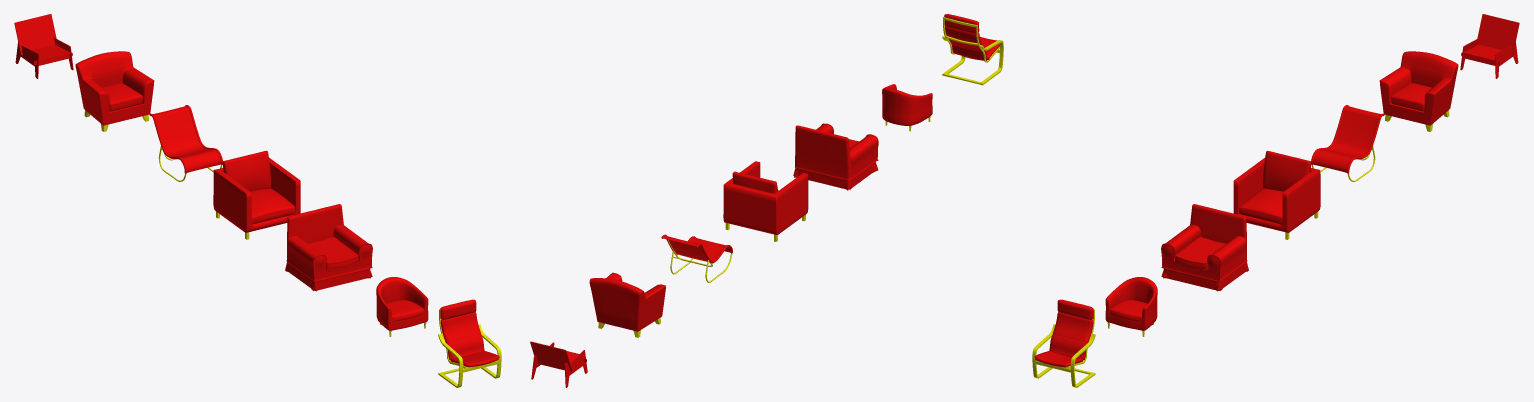
File: thorkea_armchairs_grp.fbx
3 renders of one model, left to right at view 1: azimuth 30°, elevation 25°; view 2: azimuth 150°, elevation 25°; view 3: azimuth 330°, elevation 25°, orthographic. The views are drawn at different scales.
Parts seen in each view (by area): view 1: thorkea_armchair_ektorp, thorkea_armchair_karlstad, thorkea_armchair_ekenas, thorkea_armchair_poang, thorkea_armchair_emmabo, thorkea_armchair_tullsta, thorkea_armchair_overallt; view 2: thorkea_armchair_karlstad, thorkea_armchair_ektorp, thorkea_armchair_ekenas, thorkea_armchair_poang, thorkea_armchair_tullsta, thorkea_armchair_emmabo, thorkea_armchair_overallt; view 3: thorkea_armchair_ektorp, thorkea_armchair_karlstad, thorkea_armchair_ekenas, thorkea_armchair_poang, thorkea_armchair_emmabo, thorkea_armchair_tullsta, thorkea_armchair_overallt.
Part boxes in pixels (x1,y1,x2,y2): thorkea_armchair_ektorp: (285,204,372,291); thorkea_armchair_karlstad: (213,150,300,239); thorkea_armchair_ekenas: (75,51,154,131); thorkea_armchair_poang: (438,299,501,387); thorkea_armchair_emmabo: (149,105,222,181); thorkea_armchair_tullsta: (376,277,428,336); thorkea_armchair_overallt: (14,14,73,78); thorkea_armchair_karlstad: (723,161,808,241); thorkea_armchair_ektorp: (793,123,878,190); thorkea_armchair_ekenas: (589,272,665,337); thorkea_armchair_poang: (942,14,1003,85); thorkea_armchair_tullsta: (882,84,932,131); thorkea_armchair_emmabo: (661,234,732,282); thorkea_armchair_overallt: (530,341,587,387); thorkea_armchair_ektorp: (1161,204,1248,291); thorkea_armchair_karlstad: (1233,151,1320,239); thorkea_armchair_ekenas: (1379,51,1458,131); thorkea_armchair_poang: (1032,299,1095,387); thorkea_armchair_emmabo: (1311,105,1384,181); thorkea_armchair_tullsta: (1105,277,1157,336); thorkea_armchair_overallt: (1460,14,1519,78).
Bounding box in the file's own units: 97.49 × 103 × 1273.
